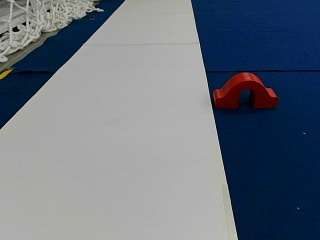bridge: (215, 72, 277, 107)
